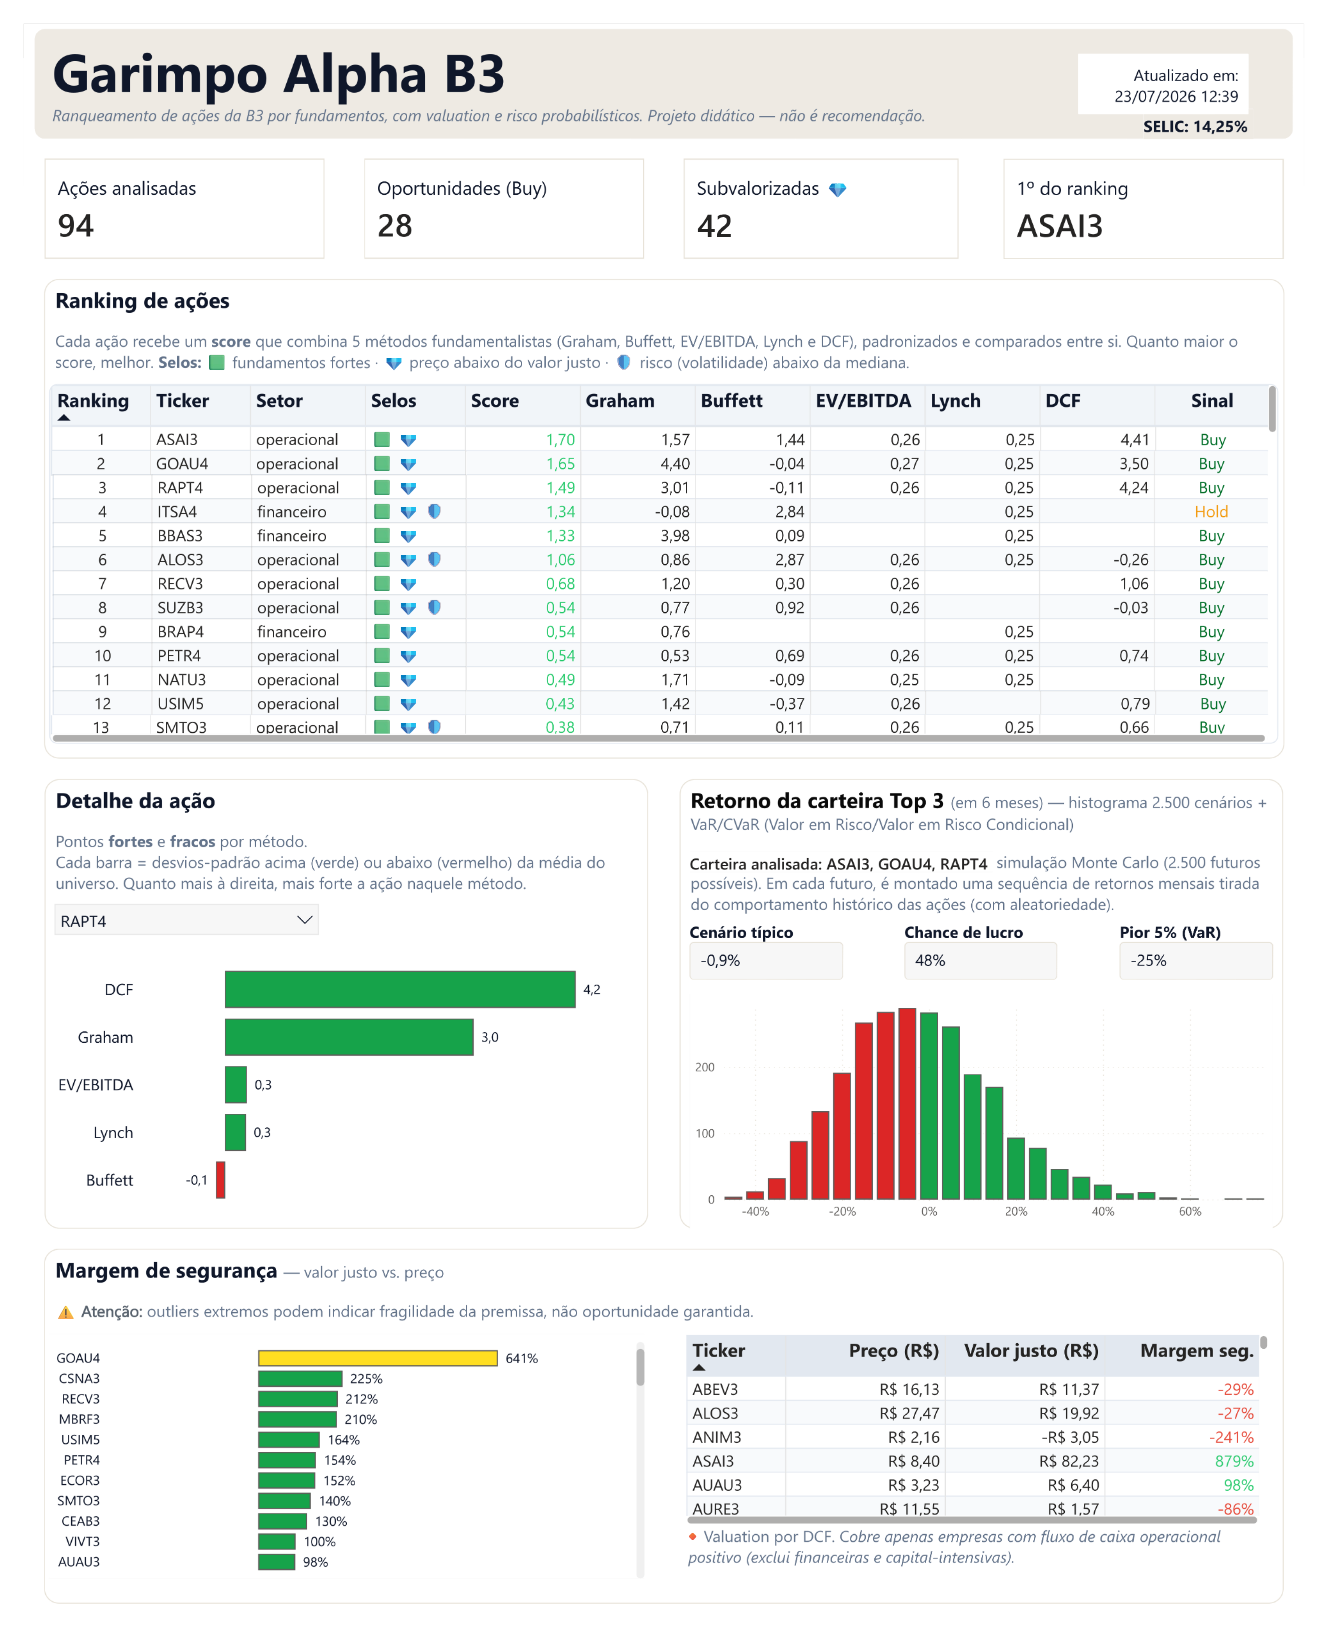

The page's visual inventory and layout, read from the dashboard file:
{"tool":"powerbi","page":{"name":"Página 1","canvas":[1280,1600],"ordinal":0},"visuals":[{"type":"textbox","box":[20,1225,1240,355],"z":0},{"type":"shape","box":[10,5,1260,110],"z":1000},{"type":"textbox","box":[20,255,1240.7,480],"z":2000,"group":"g1"},{"type":"textbox","box":[20,755,605,450],"z":2000,"group":"g2"},{"type":"textbox","box":[655,755,605,450],"z":2000},{"type":"cardVisual","fields":{"Data":["Sum(public meta_pipeline.n_acoes)"]},"box":[10,125,300,120],"z":3000},{"type":"cardVisual","fields":{"Data":["public gold_fundamental_scores.Qtd Buy"]},"box":[330,125,300,120],"z":4000},{"type":"cardVisual","fields":{"Data":["public gold_fundamental_scores.Qtd Subvalorizadas"]},"box":[650,125,300,120],"z":5000},{"type":"cardVisual","fields":{"Data":["public gold_fundamental_scores.Top 1"]},"box":[970,125,300,120],"z":6000},{"type":"textbox","box":[25,10,475.6,75],"z":7000},{"type":"textbox","box":[25,80,900,30],"z":8000},{"type":"cardVisual","fields":{"Data":["public meta_pipeline.Atualizado em"]},"box":[1055,30,170,60],"z":9000},{"type":"cardVisual","fields":{"Data":["public meta_pipeline.SELIC atual"]},"box":[1120,85,110,30],"z":10000},{"type":"tableEx","title":"Ranking de ações","fields":{"Values":["Sum(public gold_fundamental_scores.ranking)","public gold_fundamental_scores.ticker","public gold_fundamental_scores.setor","public gold_fundamental_scores.Selos","Sum(public gold_fundamental_scores.score_final)","Sum(public gold_fundamental_scores.z_graham)","Sum(public gold_fundamental_scores.z_buffett)","Sum(public gold_fundamental_scores.z_evebitda)","Sum(public gold_fundamental_scores.z_lynch)","Sum(public gold_fundamental_scores.z_dcf)","public gold_fundamental_scores.classificacao"]},"box":[25,360,1230,360],"z":11000,"group":"g1"},{"type":"barChart","fields":{"Category":["public gold_montecarlo_valuation.ticker"],"Y":["Sum(public gold_montecarlo_valuation.Margem de seguranca)"]},"box":[25,1310,595,245],"z":11000},{"type":"tableEx","fields":{"Values":["public gold_montecarlo_valuation.ticker","Sum(public gold_montecarlo_valuation.preco)","Sum(public gold_montecarlo_valuation.mc_p50)","Sum(public gold_montecarlo_valuation.Margem de seguranca)"]},"box":[656.2,1306.2,593.8,200],"z":12000},{"type":"group","id":"g1","title":"Grupo 1","box":[20,255,1240.7,480],"z":13000},{"type":"slicer","fields":{"Values":["metodos_por_acao.ticker"]},"box":[25,875,275,43],"z":13000,"group":"g2"},{"type":"barChart","fields":{"Category":["metodos_por_acao.metodo"],"Y":["Sum(metodos_por_acao.z_score)"]},"box":[25,920,590,275],"z":14000,"group":"g2"},{"type":"columnChart","title":"Retorno da carteira Top 3 em 6 meses — 2.500 cenários","fields":{"Y":["CountNonNull(public gold_montecarlo_carteira.retorno)"],"Category":["public gold_montecarlo_carteira.retorno (compartimentos)"]},"box":[665,970,585,235],"z":14000},{"type":"group","id":"g2","title":"Grupo 3","box":[20,755,605,450],"z":15000},{"type":"cardVisual","fields":{"Data":["public gold_montecarlo_carteira_resumo.Carteira Top 3"]},"box":[665,828,305,20],"z":16000},{"type":"cardVisual","title":"Pior 5% (VaR)","fields":{"Data":["Sum(public gold_montecarlo_carteira_resumo.var_5)"]},"box":[1095,897,155,60],"z":17000},{"type":"cardVisual","title":"Cenário típico","fields":{"Data":["Sum(public gold_montecarlo_carteira_resumo.retorno_p50)"]},"box":[665,897,155,60],"z":18000},{"type":"cardVisual","title":"Chance de lucro","fields":{"Data":["Sum(public gold_montecarlo_carteira_resumo.prob_ganho)"]},"box":[880,897,154,60],"z":19000}]}

Visuals, with their boxes in screenshot pixels (x1, y1, x2, y2), scaled from the page's 1280x1600 canvas onto the 1344x1632 screenshot:
textbox: x1=21 y1=1250 x2=1323 y2=1612
shape: x1=10 y1=5 x2=1334 y2=117
textbox: x1=21 y1=260 x2=1324 y2=750
textbox: x1=21 y1=770 x2=656 y2=1229
textbox: x1=688 y1=770 x2=1323 y2=1229
cardVisual - Sum(public meta_pipeline.n_acoes): x1=10 y1=128 x2=326 y2=250
cardVisual - public gold_fundamental_scores.Qtd Buy: x1=346 y1=128 x2=662 y2=250
cardVisual - public gold_fundamental_scores.Qtd Subvalorizadas: x1=682 y1=128 x2=998 y2=250
cardVisual - public gold_fundamental_scores.Top 1: x1=1018 y1=128 x2=1334 y2=250
textbox: x1=26 y1=10 x2=526 y2=87
textbox: x1=26 y1=82 x2=971 y2=112
cardVisual - public meta_pipeline.Atualizado em: x1=1108 y1=31 x2=1286 y2=92
cardVisual - public meta_pipeline.SELIC atual: x1=1176 y1=87 x2=1292 y2=117
"Ranking de ações" tableEx: x1=26 y1=367 x2=1318 y2=734
barChart - public gold_montecarlo_valuation.ticker x Sum(public gold_montecarlo_valuation.Margem de seguranca): x1=26 y1=1336 x2=651 y2=1586
tableEx - public gold_montecarlo_valuation.ticker x Sum(public gold_montecarlo_valuation.preco): x1=689 y1=1332 x2=1312 y2=1536
"Grupo 1" group: x1=21 y1=260 x2=1324 y2=750
slicer - metodos_por_acao.ticker: x1=26 y1=892 x2=315 y2=936
barChart - metodos_por_acao.metodo x Sum(metodos_por_acao.z_score): x1=26 y1=938 x2=646 y2=1219
"Retorno da carteira Top 3 em 6 meses — 2.500 cenários" columnChart: x1=698 y1=989 x2=1312 y2=1229
"Grupo 3" group: x1=21 y1=770 x2=656 y2=1229
cardVisual - public gold_montecarlo_carteira_resumo.Carteira Top 3: x1=698 y1=845 x2=1018 y2=865
"Pior 5% (VaR)" cardVisual: x1=1150 y1=915 x2=1312 y2=976
"Cenário típico" cardVisual: x1=698 y1=915 x2=861 y2=976
"Chance de lucro" cardVisual: x1=924 y1=915 x2=1086 y2=976
